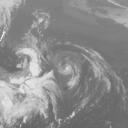cyclone: (36, 38, 106, 99)
